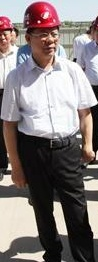boots: (0, 144, 8, 152), (0, 143, 8, 151)
hard-hat: (23, 1, 61, 29)
